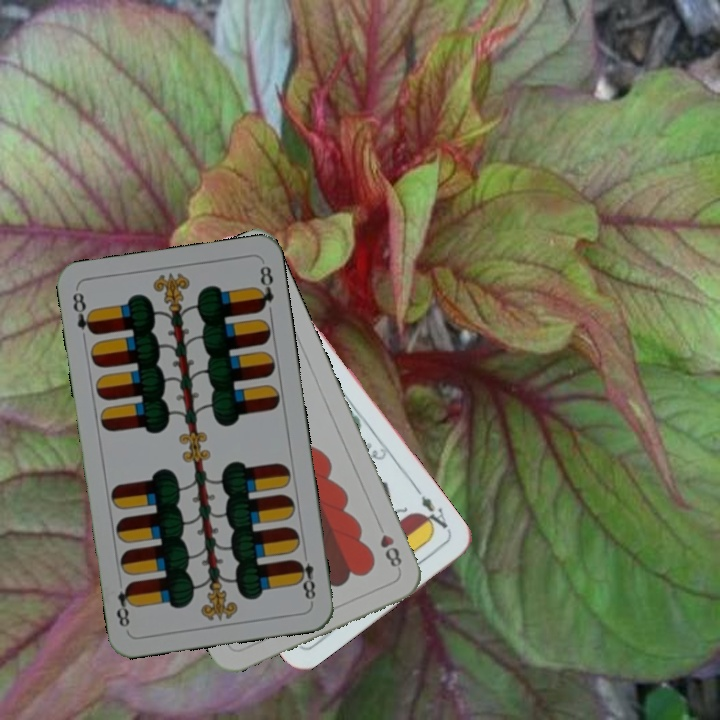E8: (292, 546, 318, 605), (68, 288, 98, 338)
EA: (414, 491, 453, 535)
H8: (372, 517, 405, 573)
